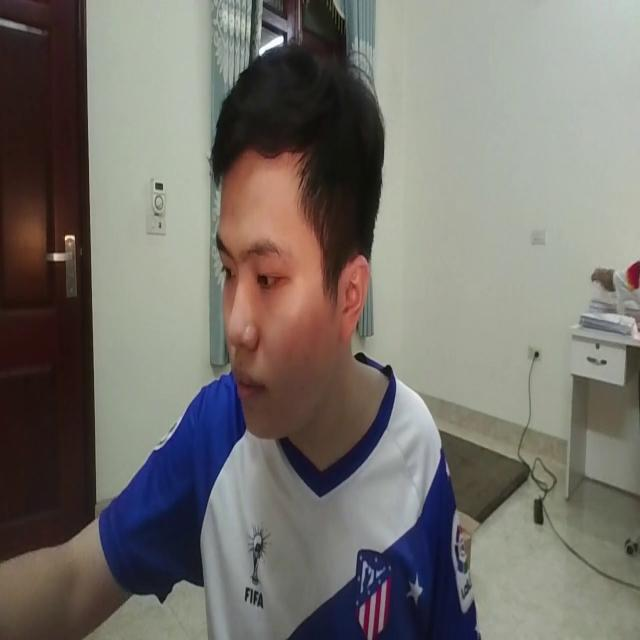student: (56, 39, 483, 640)
